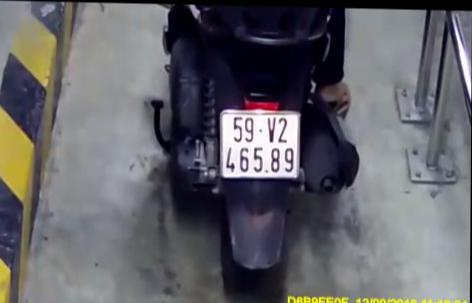LP: (221, 108, 299, 176)
